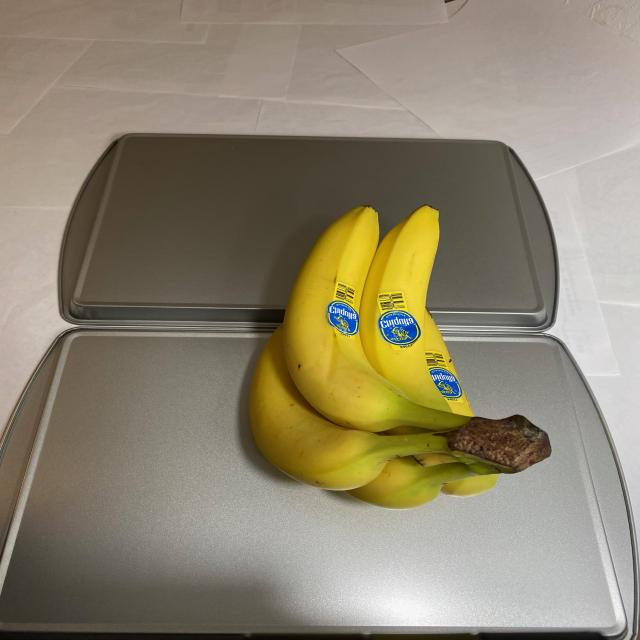Banana: (242, 200, 555, 508)
